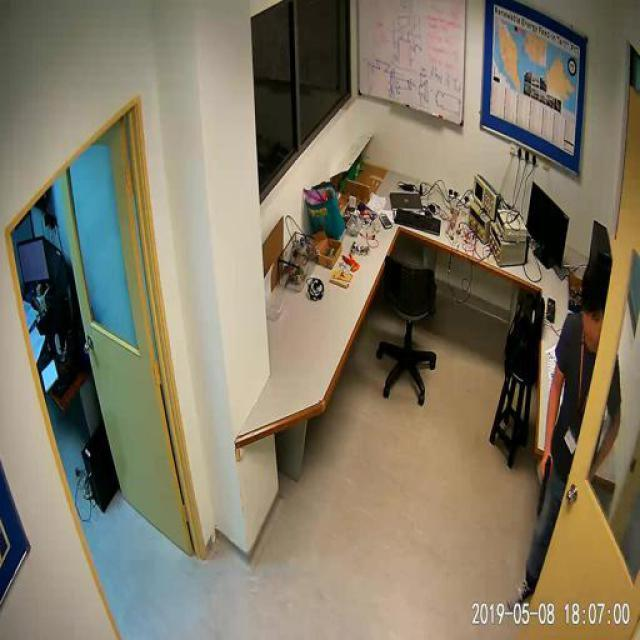weapon: (534, 458, 552, 520)
